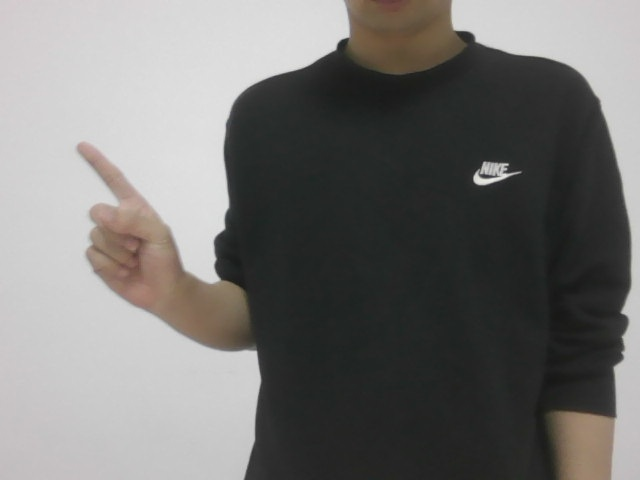what: (58, 138, 190, 330)
